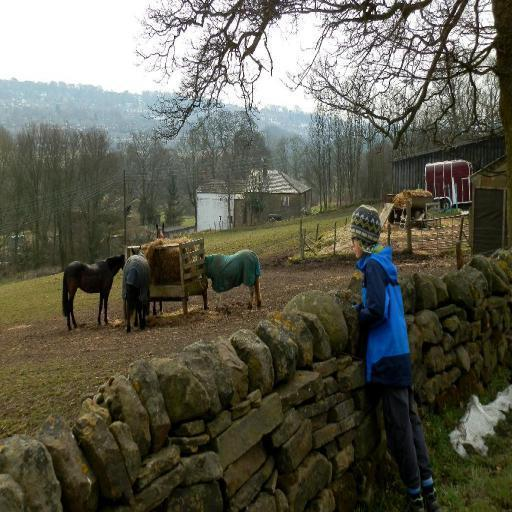horse: (61, 253, 127, 333), (200, 248, 262, 314), (123, 246, 149, 330), (153, 222, 165, 315)
